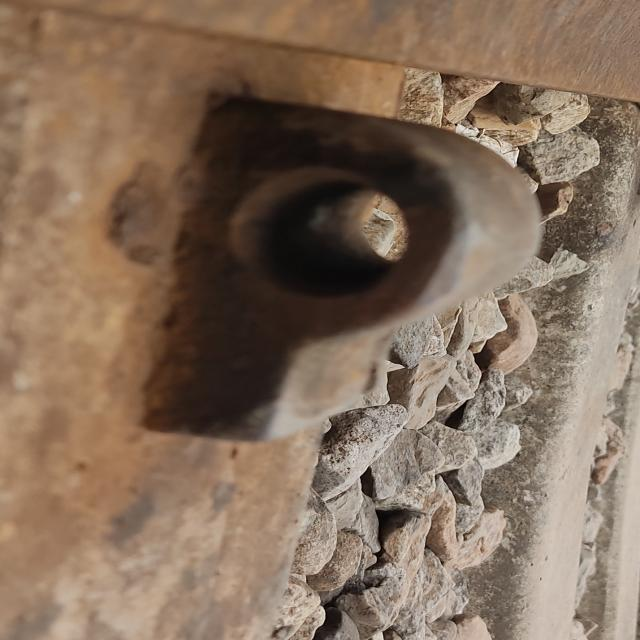track_bolt_missing: (215, 95, 554, 354)
